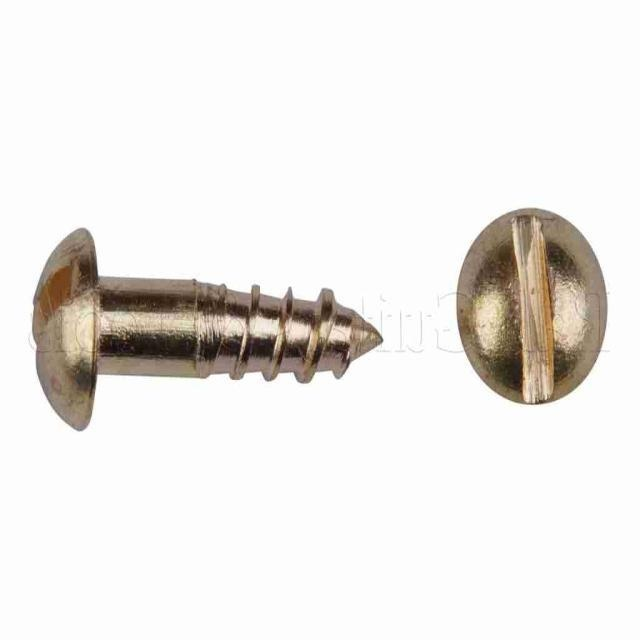duz: (456, 205, 609, 405)
